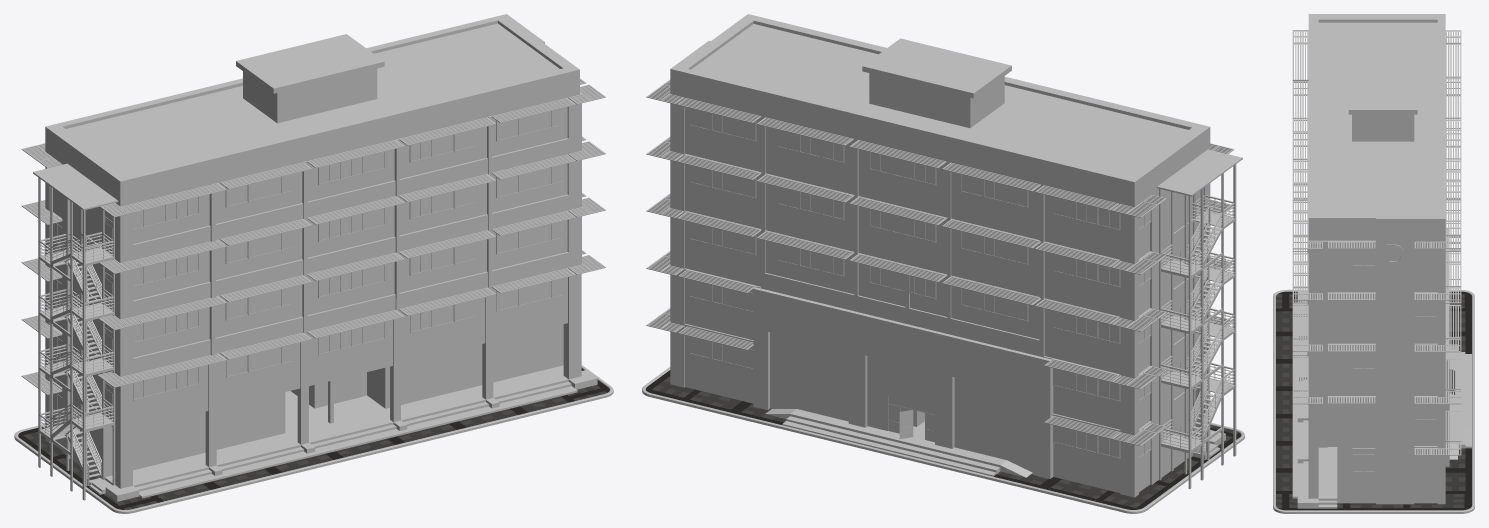
Rendered from toaD.fbx.
3 views of the same model, side by side, from view 1: azimuth 30°, elevation 25°; view 2: azimuth 150°, elevation 25°; view 3: azimuth 270°, elevation 25° (orthographic). The views are drawn at different scales.
Visible parts, largest first — view 1: TOAD; view 2: TOAD; view 3: TOAD.
Part boxes in pixels (x1,y1,x2,y2): TOAD: (14,14,613,513); TOAD: (642,14,1244,513); TOAD: (1273,14,1474,513).
Size of the model in its own units: 3310 by 2153 by 1237.
